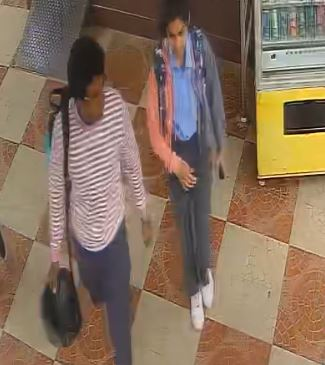intruder: (40, 32, 151, 355), (148, 8, 226, 325)
